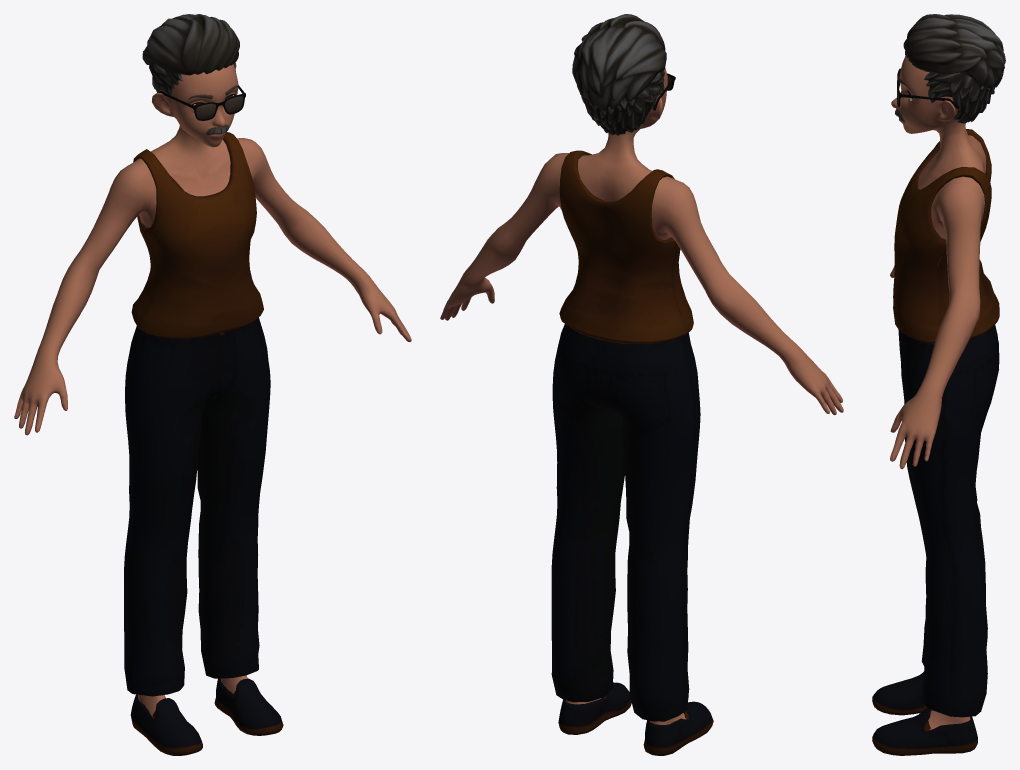
File: Mexican Man_Mesh.obj
3 renders of one model, left to right at view 1: azimuth 30°, elevation 25°; view 2: azimuth 150°, elevation 25°; view 3: azimuth 270°, elevation 25°, orthographic.
Visible parts, largest first — view 1: Mexican Man_Mesh_0; view 2: Mexican Man_Mesh_0; view 3: Mexican Man_Mesh_0.
Part boxes in pixels (x1,y1,x2,y2): Mexican Man_Mesh_0: [14, 14, 411, 755]; Mexican Man_Mesh_0: [440, 14, 843, 755]; Mexican Man_Mesh_0: [872, 14, 1005, 755].
Size of the model in its own units: 1.06 by 1.84 by 0.3128.
Materials: 1 (1 with a texture image).
